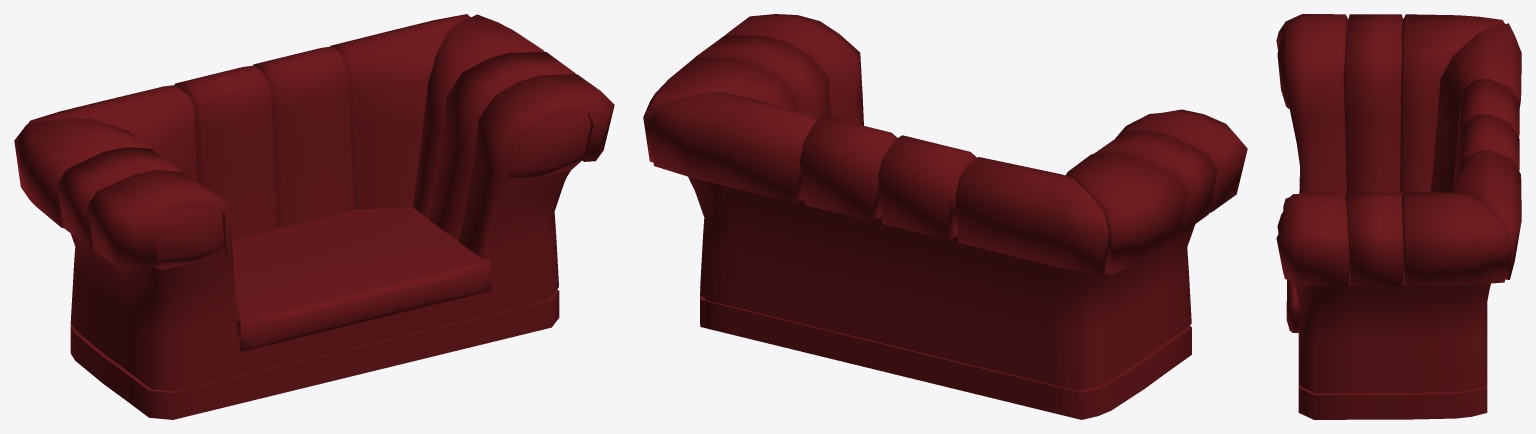
The model's file is LoungeCouch2UV.fbx.
3 renders of one model, left to right at view 1: azimuth 30°, elevation 25°; view 2: azimuth 150°, elevation 25°; view 3: azimuth 270°, elevation 25°, orthographic. The views are drawn at different scales.
Parts seen in each view (by area): view 1: couches:polySurface30; view 2: couches:polySurface30; view 3: couches:polySurface30.
Part boxes in pixels (left/top/right/bottom): couches:polySurface30: left=14, top=14, right=614, bottom=419; couches:polySurface30: left=643, top=14, right=1247, bottom=419; couches:polySurface30: left=1276, top=14, right=1521, bottom=419.
Size of the model in its own units: 267 by 119 by 123.
